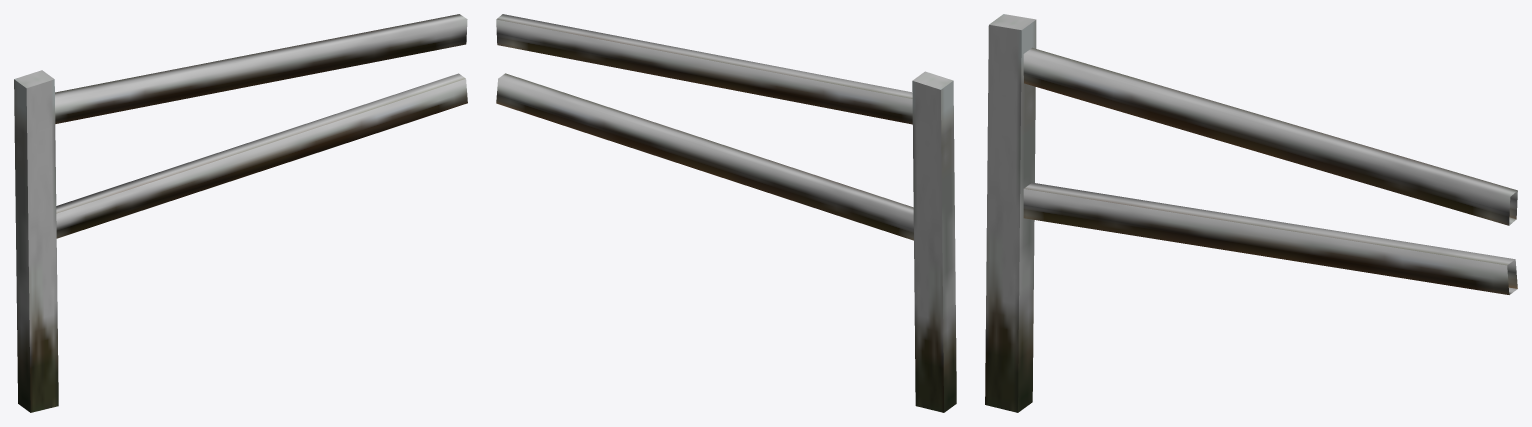
Rendered from general_obj_fence02.fbx.
3 renders of one model, left to right at view 1: azimuth 30°, elevation 25°; view 2: azimuth 150°, elevation 25°; view 3: azimuth 330°, elevation 25°, orthographic. The views are drawn at different scales.
Visible parts, largest first — view 1: Sphere01; view 2: Sphere01; view 3: Sphere01.
Part boxes in pixels (x1,y1,x2,y2): Sphere01: [14, 14, 467, 412]; Sphere01: [496, 14, 956, 412]; Sphere01: [985, 14, 1517, 412].
Bounding box in the file's own units: 3.19 × 2.23 × 0.2022.
